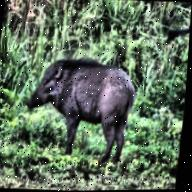boar: (17, 43, 149, 172)
